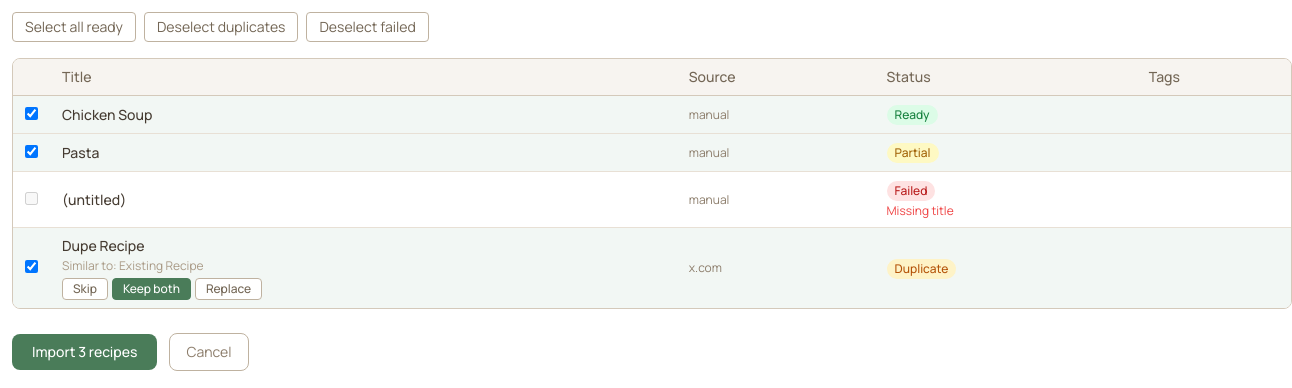
ReviewTable › T18: Select all ready checks only non-failed, non-duplicate rows
Click the button "Select all ready" at (74, 27), box [12,12,136,42]
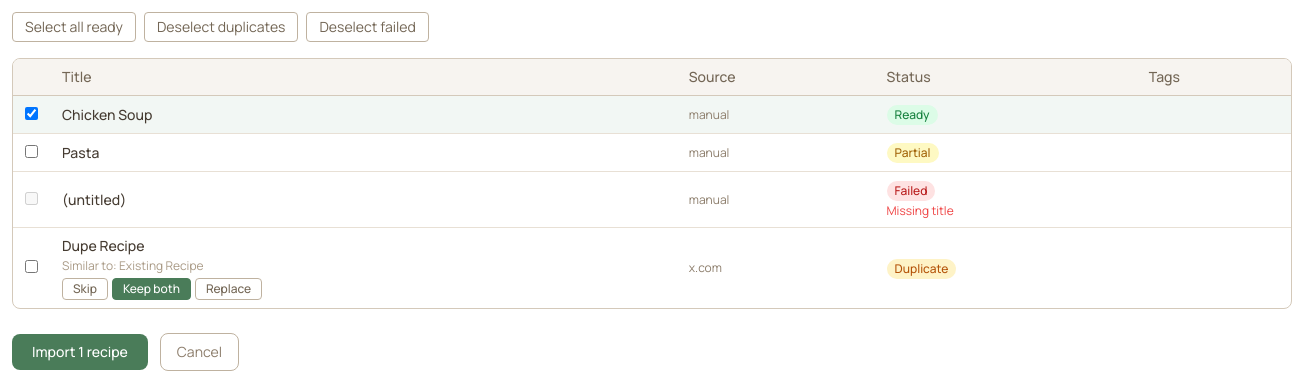
Expected: the button "Import 1 recipe" is shown, [12,334,148,370]
